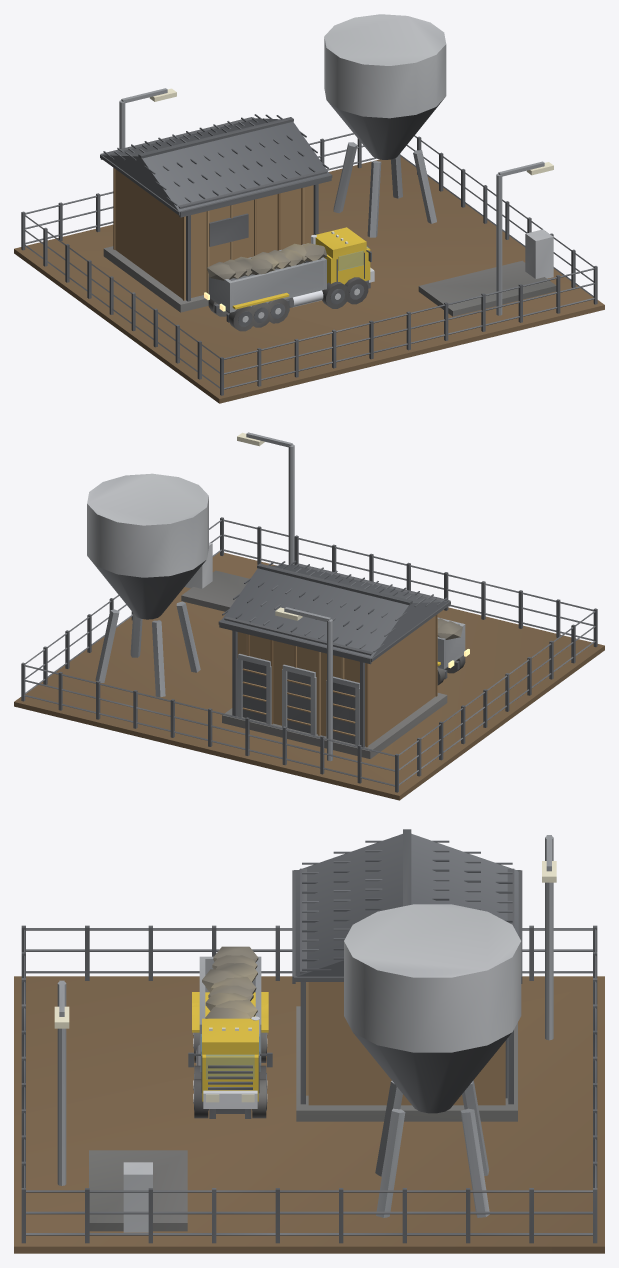
File: Haul_P1.fbx
The picture shows the model from 3 angles, top to bottom: view 1: azimuth 30°, elevation 25°; view 2: azimuth 150°, elevation 25°; view 3: azimuth 270°, elevation 25°; orthographic projection. The views are drawn at different scales.
Visible parts, largest first — view 1: Haul.Yard, Haul.Workshop, Haul.Hopper, Haul.Parked0, Haul.Fence, Haul.Weighbridge, Haul.Lamp0, Haul.Lamp1; view 2: Haul.Yard, Haul.Workshop, Haul.Hopper, Haul.Fence, Haul.Weighbridge, Haul.Parked0, Haul.Lamp1, Haul.Lamp0; view 3: Haul.Yard, Haul.Hopper, Haul.Workshop, Haul.Fence, Haul.Parked0, Haul.Weighbridge, Haul.Lamp0, Haul.Lamp1.
Part boxes in pixels (<box>): Haul.Yard: <box>14,156,604,403</box>; Haul.Workshop: <box>100,114,332,312</box>; Haul.Hopper: <box>324,14,446,237</box>; Haul.Parked0: <box>204,227,374,331</box>; Haul.Fence: <box>21,133,597,395</box>; Haul.Weighbridge: <box>418,229,556,316</box>; Haul.Lamp0: <box>496,161,553,315</box>; Haul.Lamp1: <box>119,88,176,148</box>; Haul.Yard: <box>14,552,604,800</box>; Haul.Workshop: <box>218,560,450,758</box>; Haul.Hopper: <box>87,473,208,697</box>; Haul.Fence: <box>21,517,597,792</box>; Haul.Weighbridge: <box>181,542,249,611</box>; Haul.Parked0: <box>437,617,469,685</box>; Haul.Lamp1: <box>275,607,332,761</box>; Haul.Lamp0: <box>237,432,294,564</box>; Haul.Yard: <box>14,976,604,1253</box>; Haul.Hopper: <box>344,904,521,1217</box>; Haul.Workshop: <box>292,829,522,1121</box>; Haul.Fence: <box>21,925,597,1243</box>; Haul.Parked0: <box>188,946,272,1118</box>; Haul.Weighbridge: <box>89,1150,187,1232</box>; Haul.Lamp0: <box>54,980,69,1185</box>; Haul.Lamp1: <box>542,835,556,1040</box>.
Bounding box in the file's own units: 2600 × 1167 × 2400.
